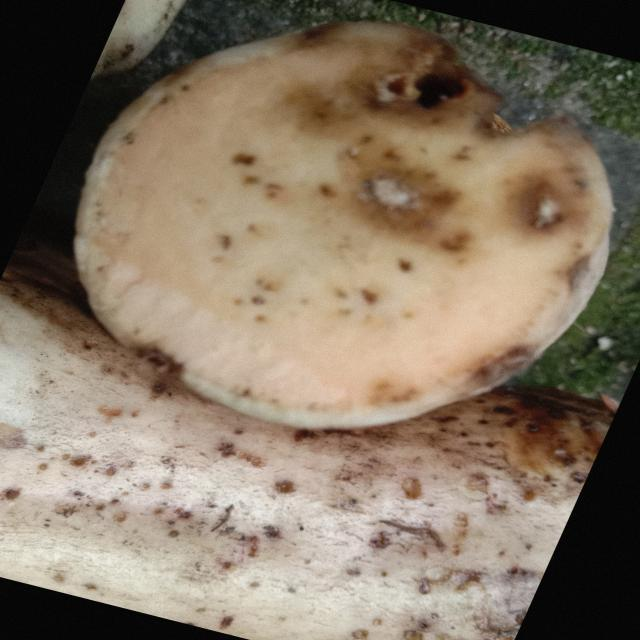Sick Sweet Potato_Tuber Rot: (75, 22, 612, 429)
